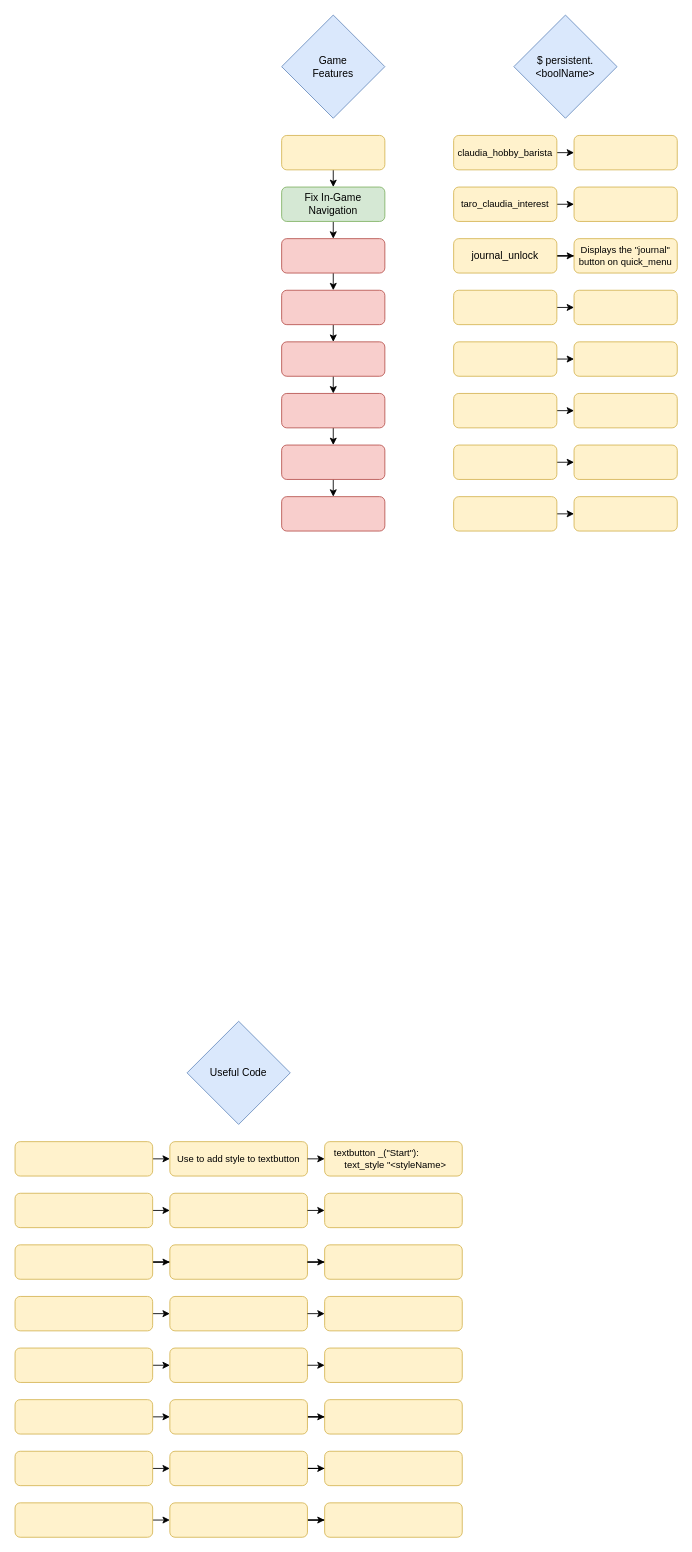
This 692x1552 diagram has some shape labels left out. Each missing label, with the box of its shape:
About (imagebuttons for categories): (281, 238, 385, 273)
Player learns Claudia's hobby is being a barista: (573, 135, 677, 170)
Relationship Bar: (281, 135, 385, 170)
text_style "navigationTitleTextButton": (14, 1141, 153, 1176)
The relationship meter bar: (573, 186, 677, 221)
